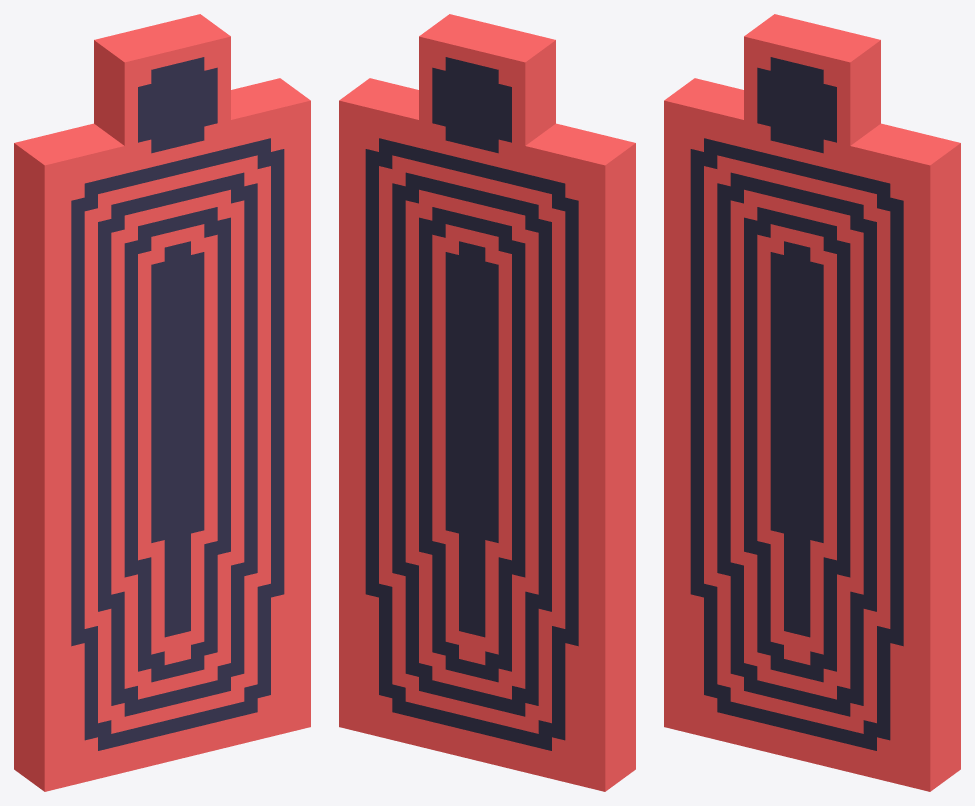
File: BS_Portal_3.fbx
3 renders of one model, left to right at view 1: azimuth 30°, elevation 25°; view 2: azimuth 150°, elevation 25°; view 3: azimuth 330°, elevation 25°, orthographic.
Visible parts, largest first — view 1: BS_Portal_3; view 2: BS_Portal_3; view 3: BS_Portal_3.
Boxes of the visible parts, x1,y1,x2,y2 form: BS_Portal_3: [14, 14, 310, 791]; BS_Portal_3: [339, 14, 635, 791]; BS_Portal_3: [664, 14, 960, 791].
Bounding box in the file's own units: 50 × 10 × 127.
